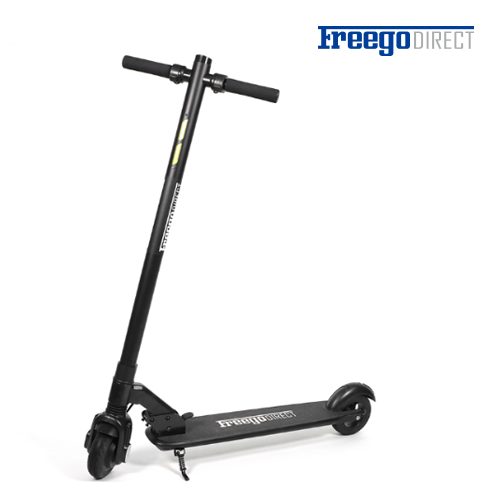kick_board: (82, 56, 374, 480)
kick_body: (154, 398, 334, 442)
kick_handler: (119, 53, 280, 104)
kick_neck: (108, 104, 214, 397)
kick_wheel: (83, 412, 131, 479), (327, 385, 375, 439)
